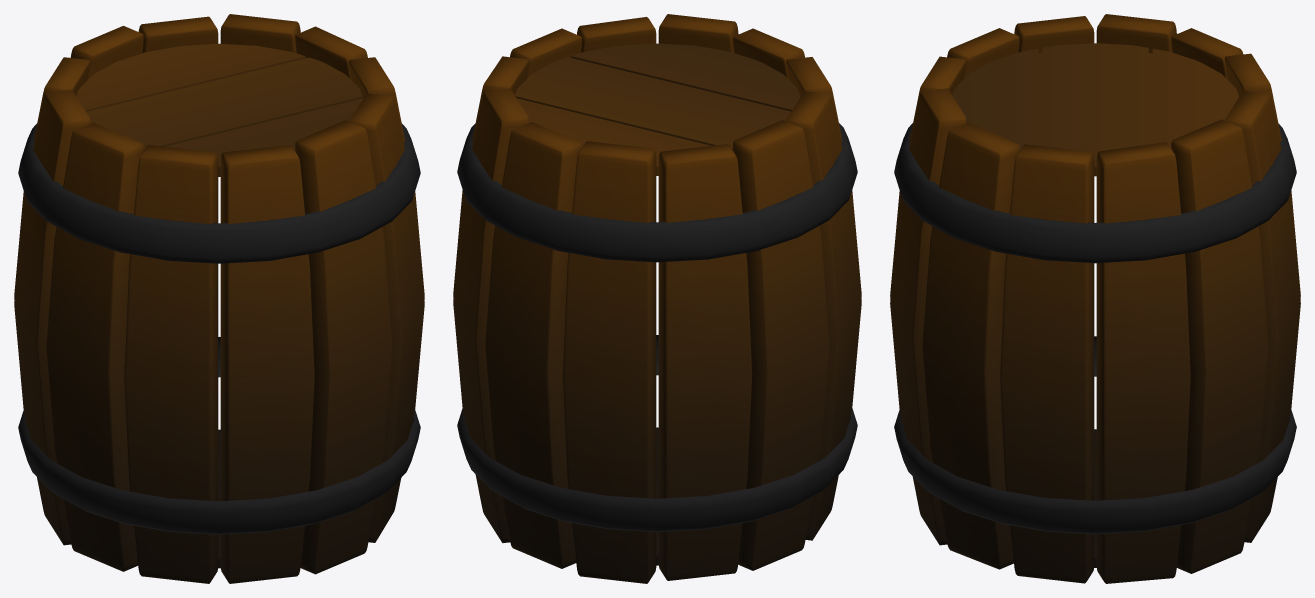
File: barrel.fbx
3 renders of one model, left to right at view 1: azimuth 30°, elevation 25°; view 2: azimuth 150°, elevation 25°; view 3: azimuth 270°, elevation 25°, orthographic.
Visible parts, largest first — view 1: Circle.005; view 2: Circle.005; view 3: Circle.005.
Boxes of the visible parts, bbox=[...] form: Circle.005: bbox=[14, 14, 424, 583]; Circle.005: bbox=[453, 14, 861, 583]; Circle.005: bbox=[890, 14, 1300, 583].
Bounding box in the file's own units: 193 × 221 × 193.
